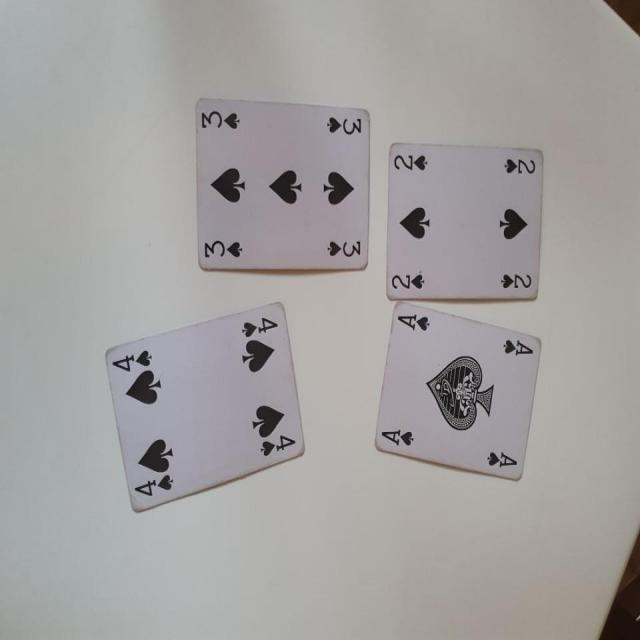2 of spades: (383, 140, 548, 302)
3 of spades: (193, 98, 369, 273)
4 of spades: (102, 300, 310, 520)
ace of spades: (380, 300, 540, 481)
